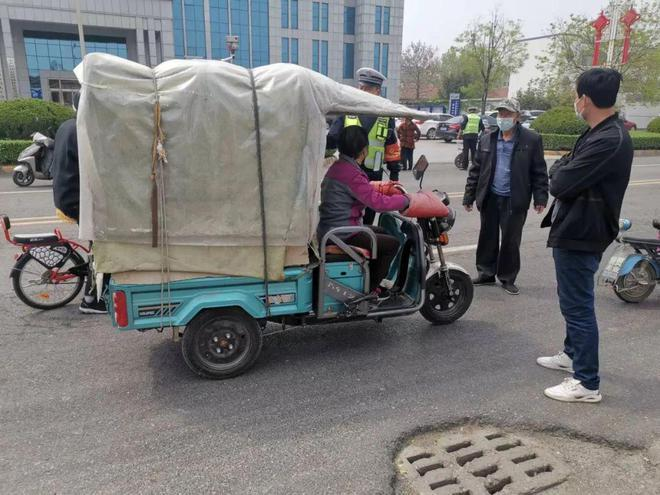only_driver: (81, 63, 486, 351)
